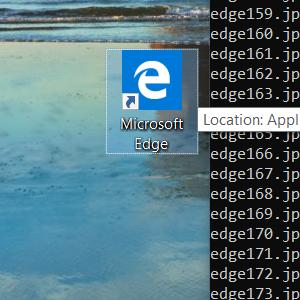edge: (122, 50, 182, 109)
